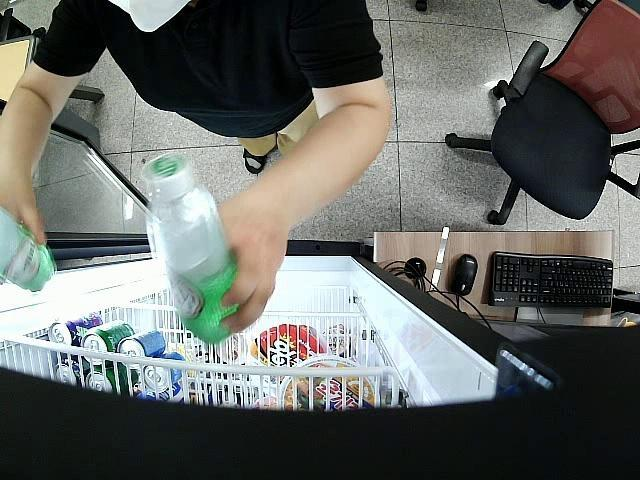18_trevi: (142, 153, 240, 344), (0, 206, 54, 291)
